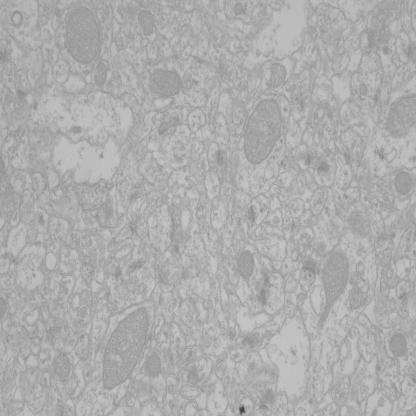mitochondria: (102, 306, 149, 391), (242, 98, 283, 166), (63, 5, 103, 66), (320, 249, 351, 304), (386, 91, 416, 140), (149, 68, 182, 99), (264, 61, 287, 88), (53, 351, 72, 383), (237, 249, 256, 281), (390, 331, 408, 359), (137, 10, 155, 37), (394, 170, 414, 194), (146, 352, 162, 380), (92, 61, 108, 88), (358, 83, 369, 97), (233, 3, 244, 16)
